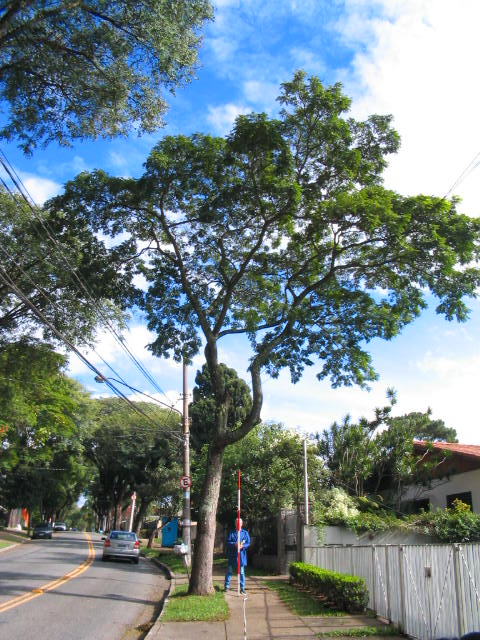crown: (2, 62, 473, 384)
stem: (184, 443, 230, 597)
stick: (232, 467, 250, 590)
tree: (1, 60, 476, 596)
